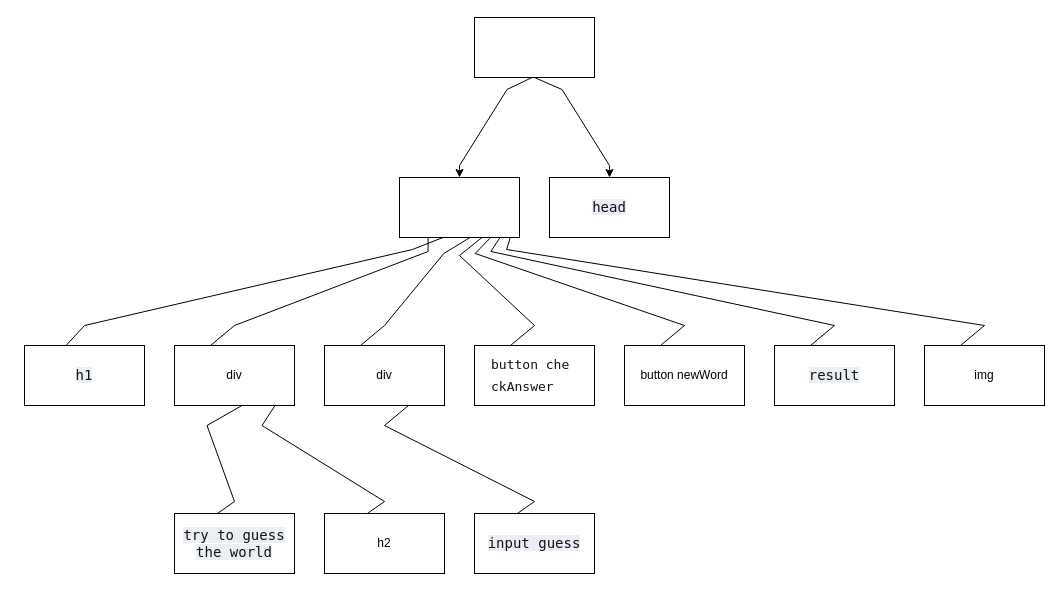
Some shapes in this 1062 by 591 pixel diagram are drawn without their labels. The shapes that lost their labels are listed below. From the top down, each one's centre as x and y in pixels, then its label:
pixel 534 47: html
pixel 459 207: body
